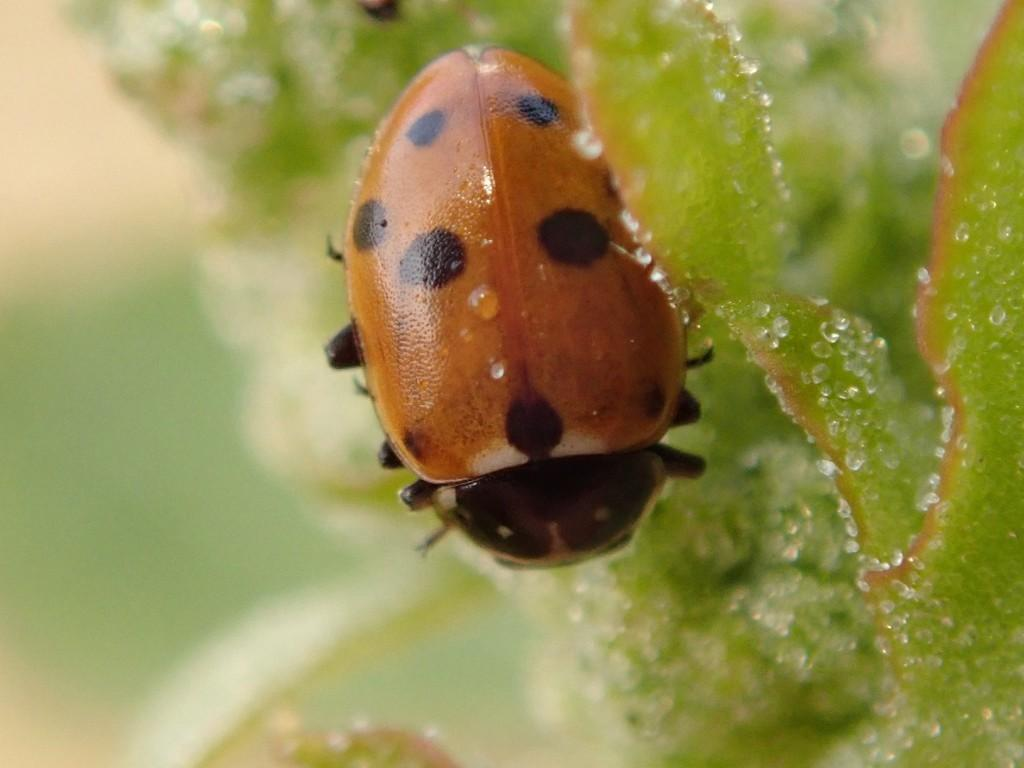ladybug: (325, 45, 719, 573)
